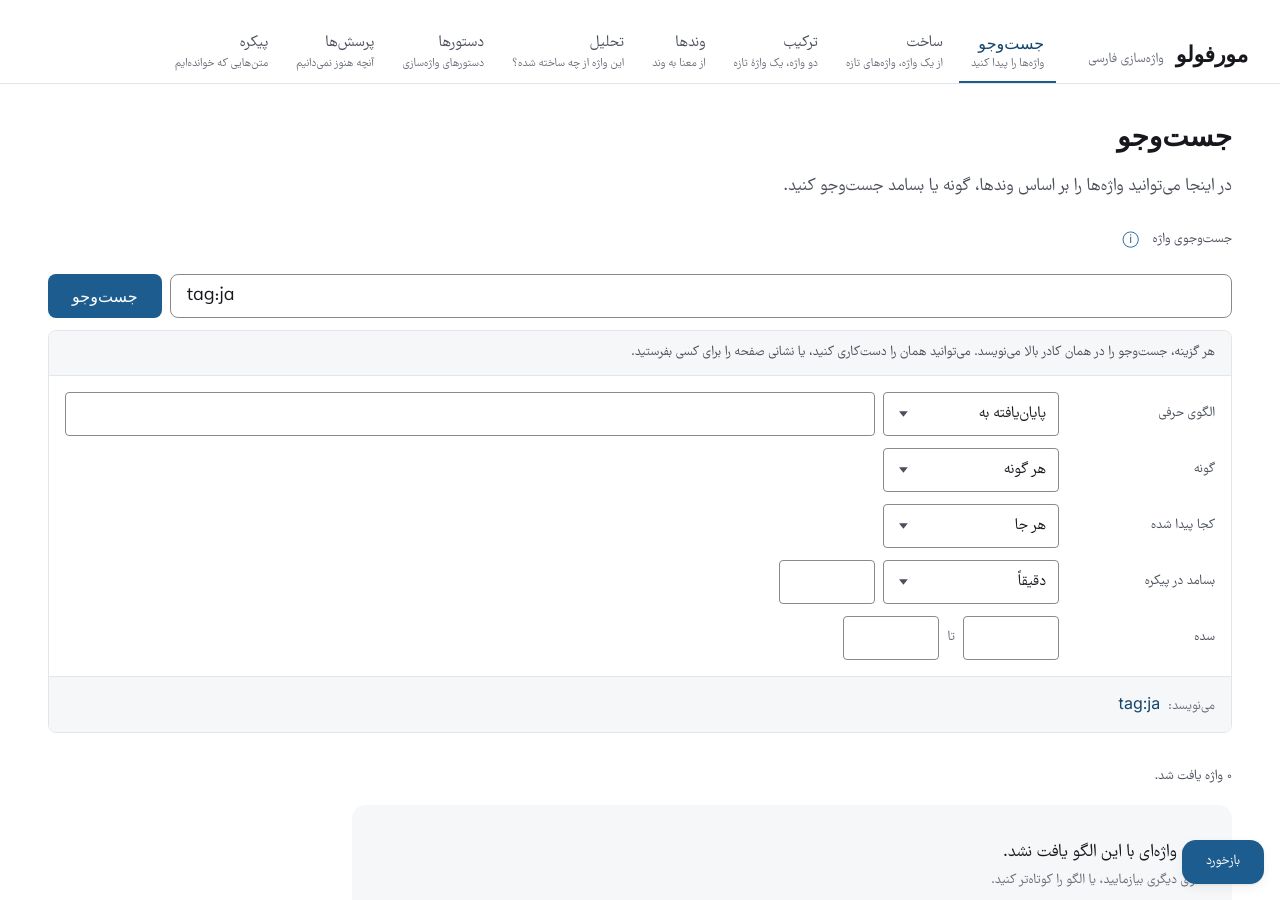
Test case: the builder › keeps a term it has no control for
The width and height of the screenshot is (1280, 900).
Click the dropdown labelled "گونه" at (971, 470), box [883, 448, 1059, 492]
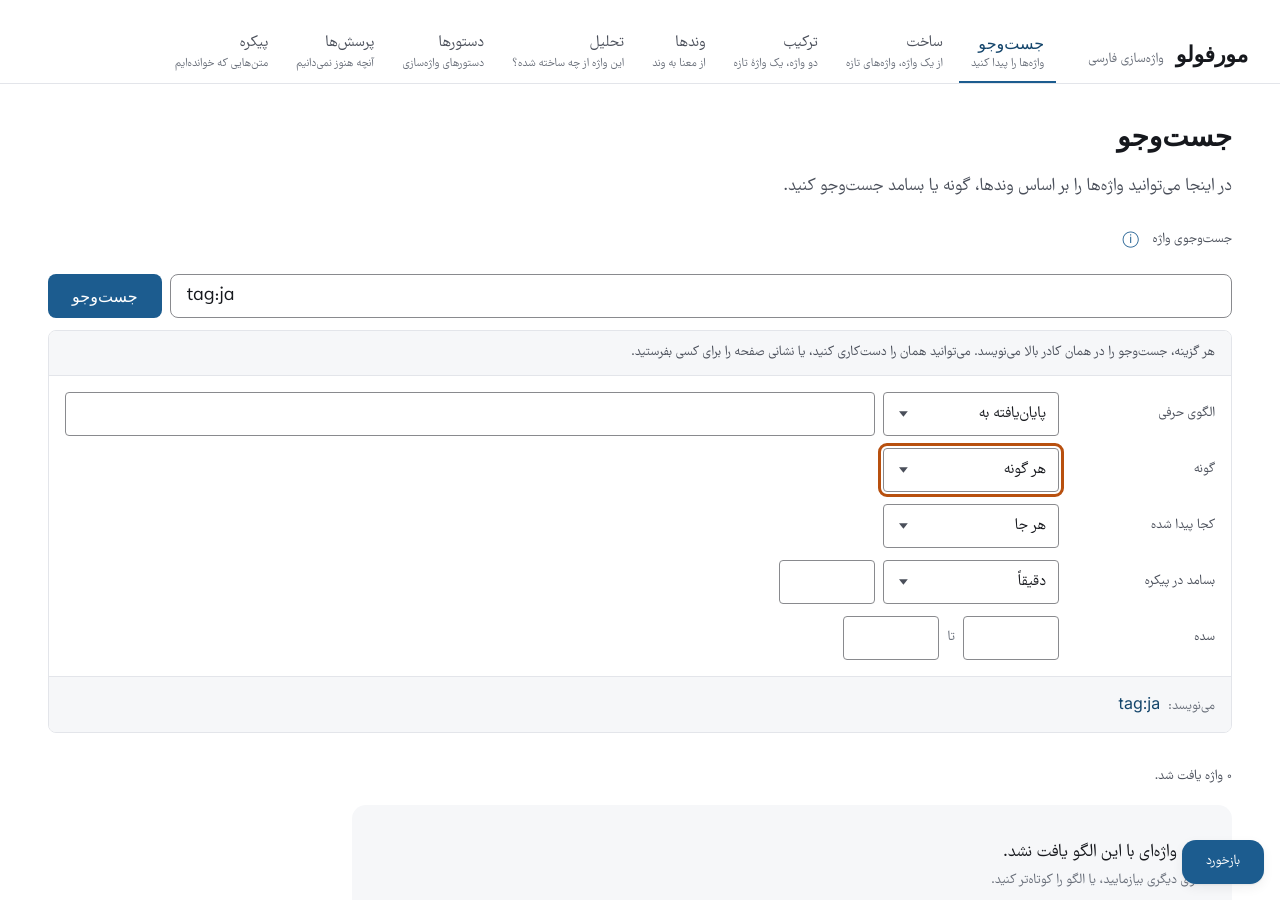
Check: the search field labelled "جست‌وجوی واژه" holds "tag:ja", box [170, 274, 1232, 318]
Select "کارنام" in the dropdown labelled "گونه" at (971, 470), box [883, 448, 1059, 492]
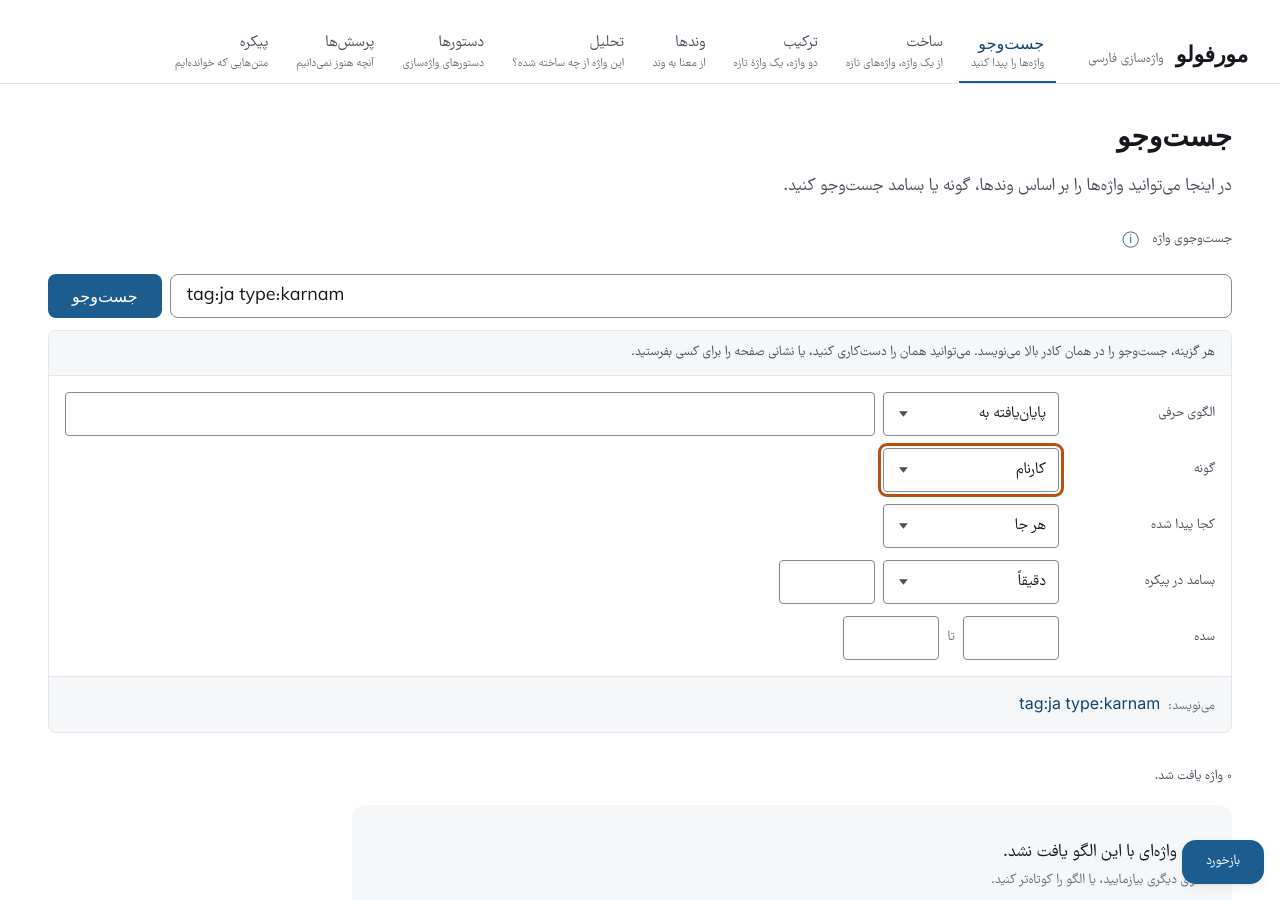
Check: the search field labelled "جست‌وجوی واژه" holds "tag:ja type:karnam", box [170, 274, 1232, 318]
